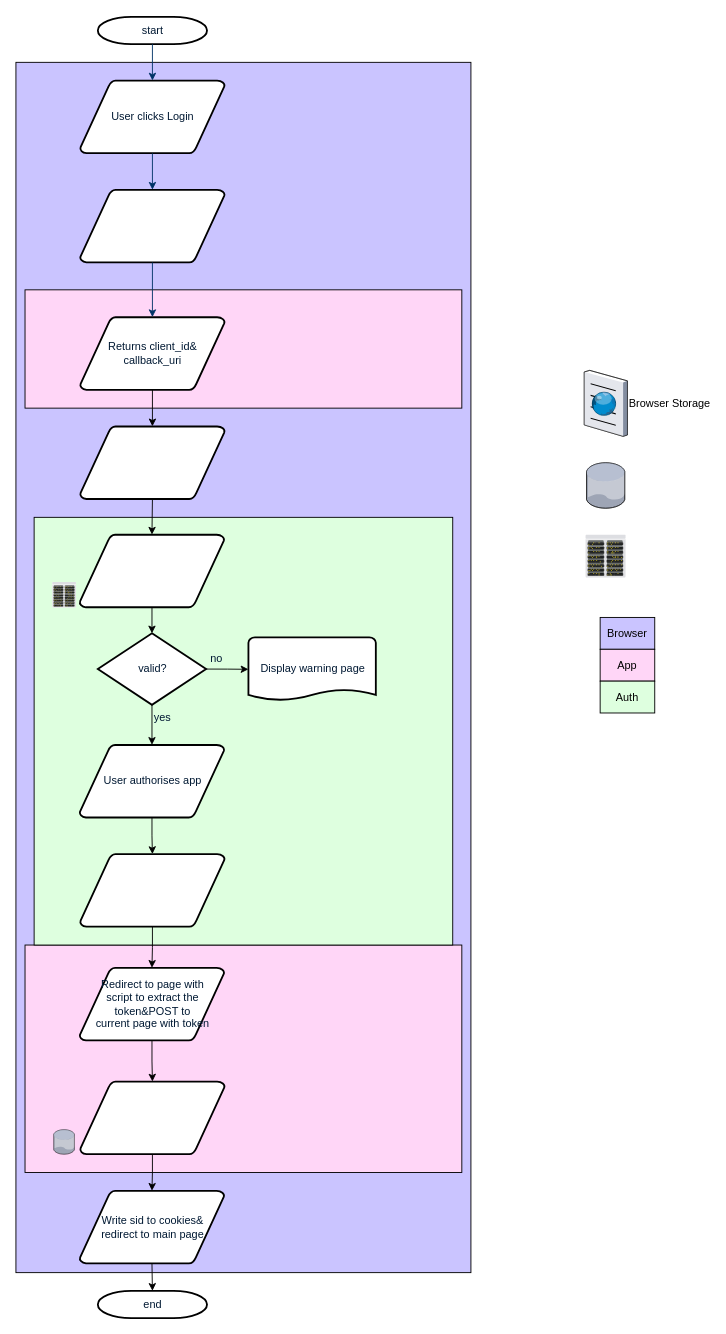
This 726x1334 diagram has some shape labels left out. Each missing label, with the box of its shape:
App Database: (586, 462, 625, 508)
Auth Database: (585, 534, 625, 577)
Check if client valid: (78, 533, 225, 608)
Fires XHR for client info: (79, 188, 225, 263)
Generate sid& insert sid in DB with token&redirect to success page?sid: (79, 1080, 225, 1155)
Generate token & Redirect to redirect_uri #token: (79, 853, 225, 927)
Redirect to authorise uri? response_type & client_id &redirect_uri &scope: (79, 425, 225, 500)
